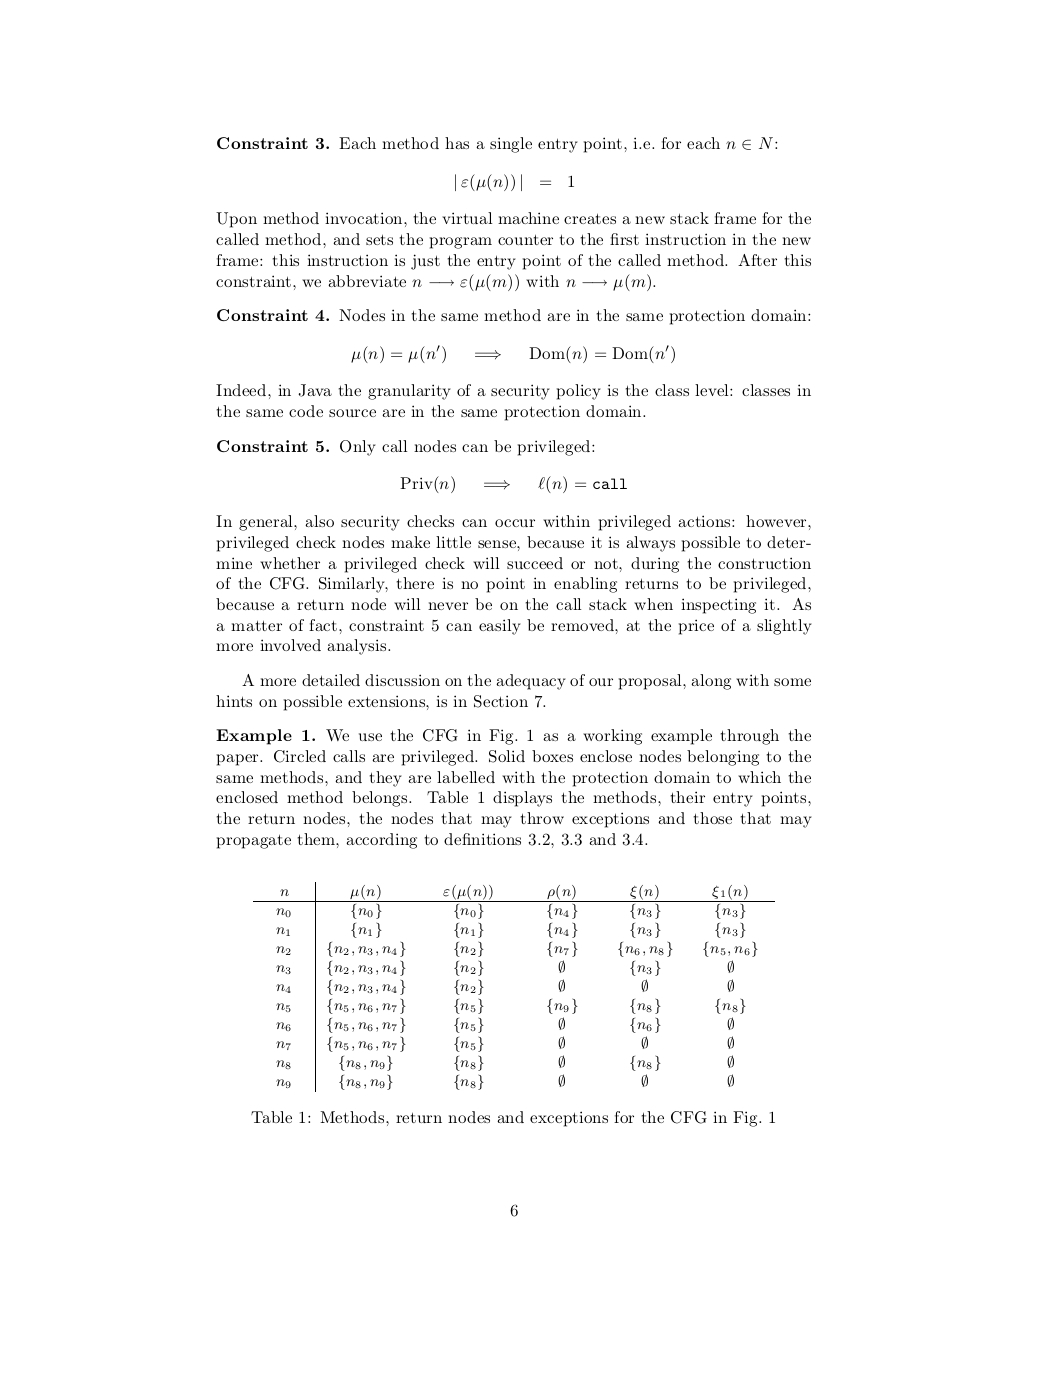Table: (253, 882, 773, 1092)
formula: (351, 344, 674, 364), (400, 475, 626, 494), (455, 173, 574, 192)
